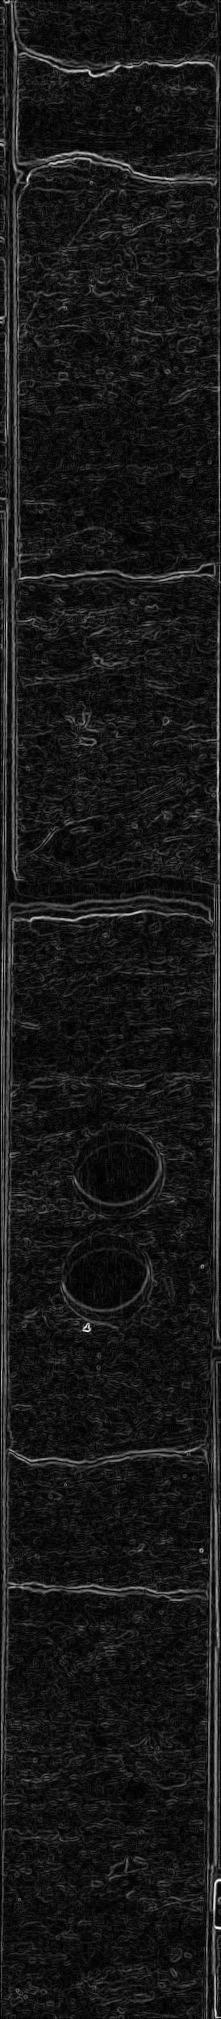scal: (59, 1114, 170, 1225), (53, 1225, 163, 1333)
